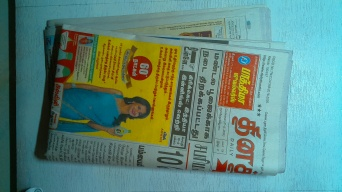p: (38, 13, 299, 174)
